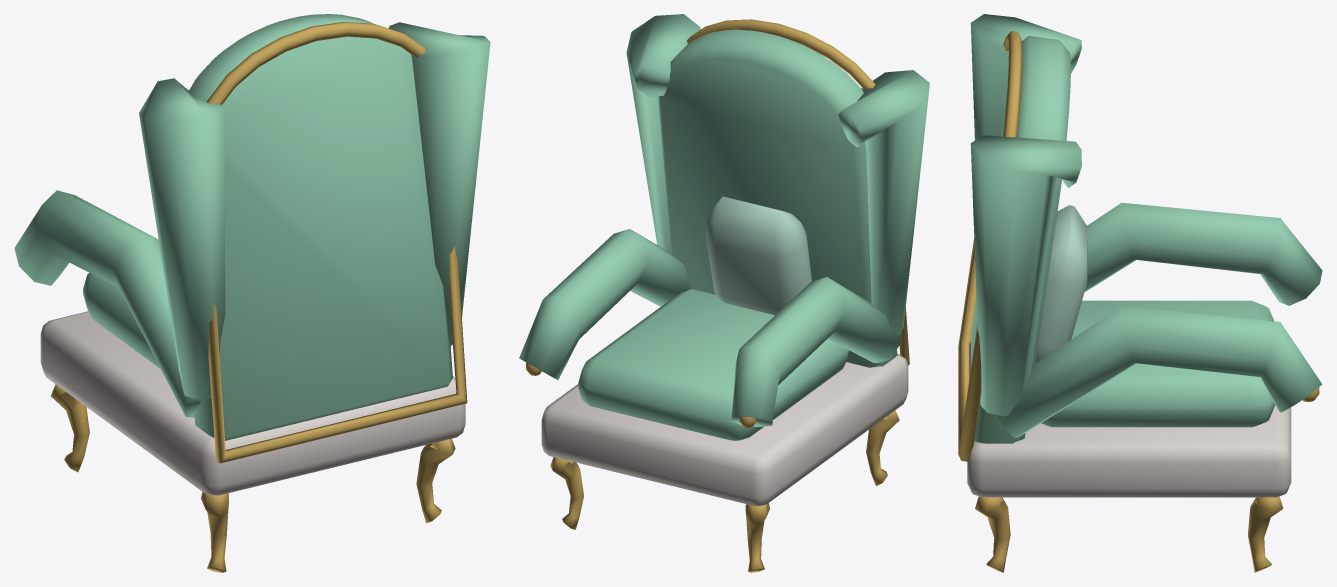
The model's file is wingback_chair.glb.
3 views of the same model, side by side, from view 1: azimuth 30°, elevation 25°; view 2: azimuth 150°, elevation 25°; view 3: azimuth 270°, elevation 25° (orthographic). The views are drawn at different scales.
Visible parts, largest first — view 1: wingback_chair; view 2: wingback_chair; view 3: wingback_chair.
Boxes of the visible parts, x1,y1,x2,y2 form: wingback_chair: (14, 14, 490, 572); wingback_chair: (519, 14, 929, 572); wingback_chair: (958, 14, 1322, 572).
Size of what is drawn, in the model's own units: 0.9 by 1.3 by 0.9.
